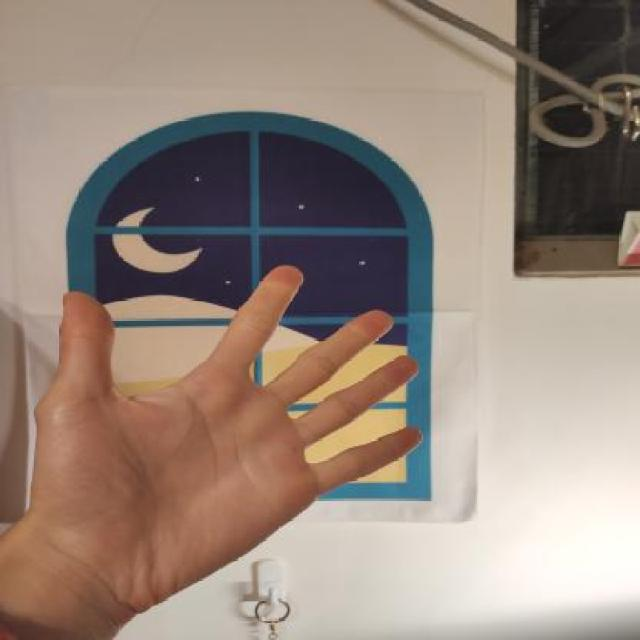no_glove: (4, 254, 442, 611)
